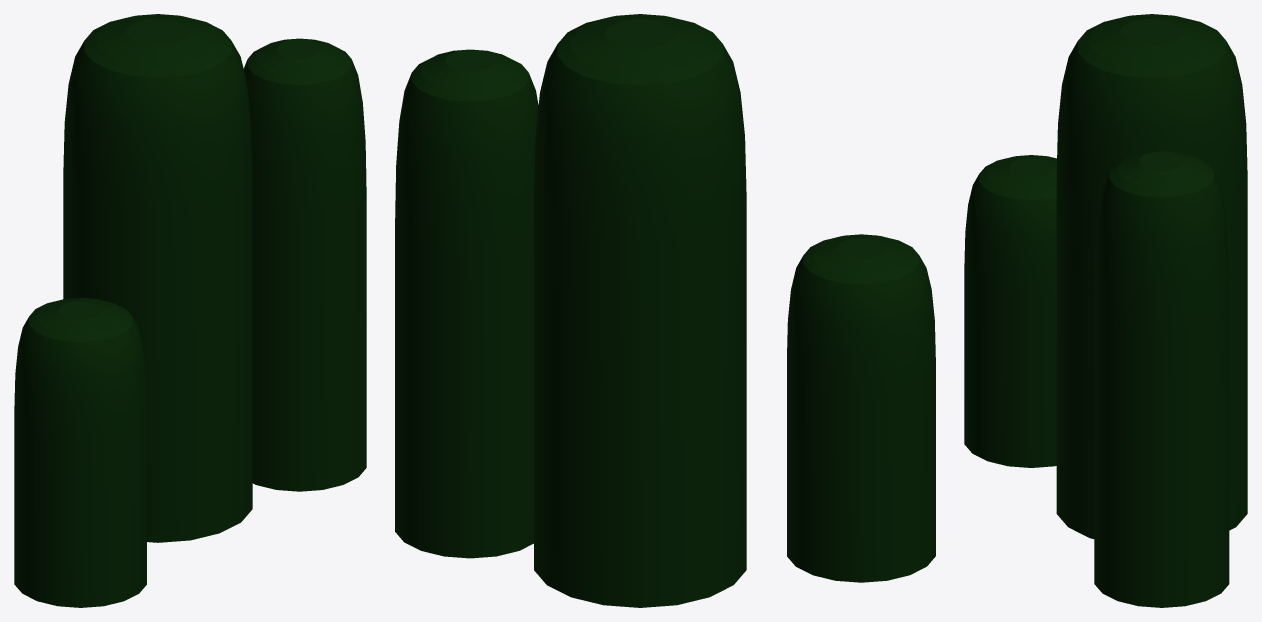
Rendered from MarioBackMountain.FBX.
3 views of the same model, side by side, from view 1: azimuth 30°, elevation 25°; view 2: azimuth 150°, elevation 25°; view 3: azimuth 270°, elevation 25° (orthographic). The views are drawn at different scales.
Visible parts, largest first — view 1: Cylinder009, Cylinder010, Cylinder008; view 2: Cylinder009, Cylinder010, Cylinder008; view 3: Cylinder010, Cylinder009, Cylinder008.
Boxes of the visible parts, x1,y1,x2,y2 form: Cylinder009: [63, 14, 252, 542]; Cylinder010: [243, 38, 366, 491]; Cylinder008: [14, 297, 146, 607]; Cylinder009: [534, 14, 746, 607]; Cylinder010: [395, 49, 538, 558]; Cylinder008: [787, 234, 935, 582]; Cylinder010: [1094, 150, 1229, 607]; Cylinder009: [1056, 14, 1247, 538]; Cylinder008: [964, 155, 1056, 467].
Size of the model in its own units: 170 by 190 by 103.
